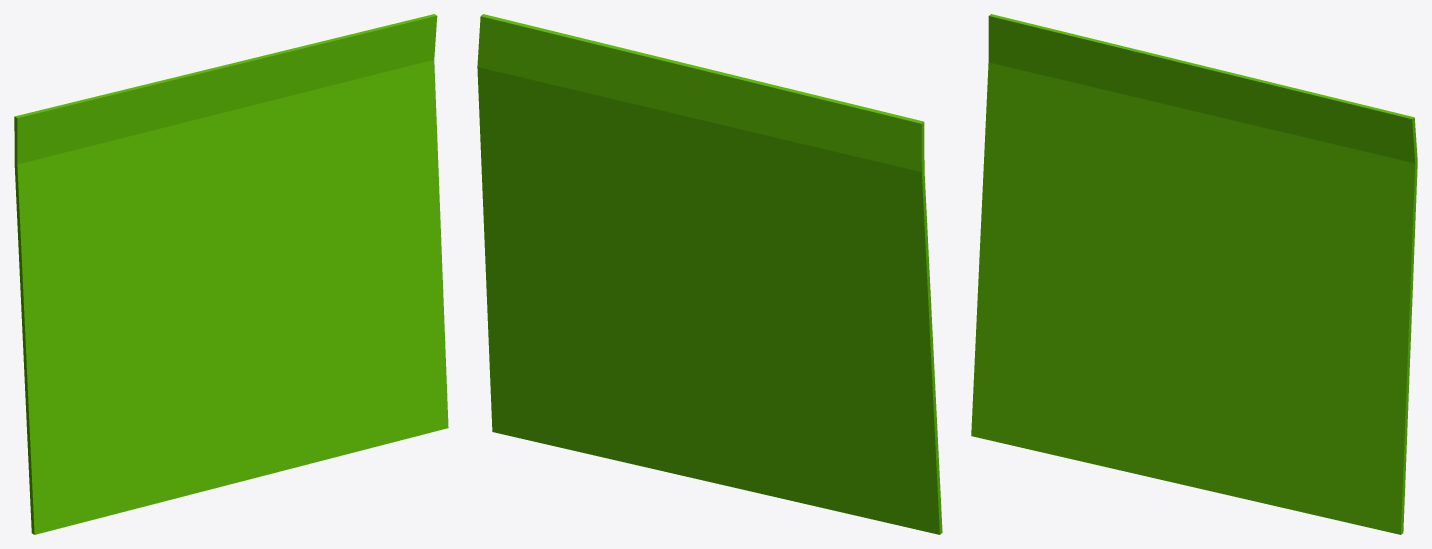
File: StickyNotesV6Green.fbx
3 views of the same model, side by side, from view 1: azimuth 30°, elevation 25°; view 2: azimuth 150°, elevation 25°; view 3: azimuth 330°, elevation 25° (orthographic). The views are drawn at different scales.
Parts seen in each view (by area): view 1: StickyNotesV6Green; view 2: StickyNotesV6Green; view 3: StickyNotesV6Green.
Part boxes in pixels (left/top/right/bottom): StickyNotesV6Green: left=14, top=14, right=448, bottom=534; StickyNotesV6Green: left=477, top=14, right=942, bottom=534; StickyNotesV6Green: left=971, top=14, right=1417, bottom=534.
Size of the model in its own units: 5.41 by 4.97 by 0.5116.
